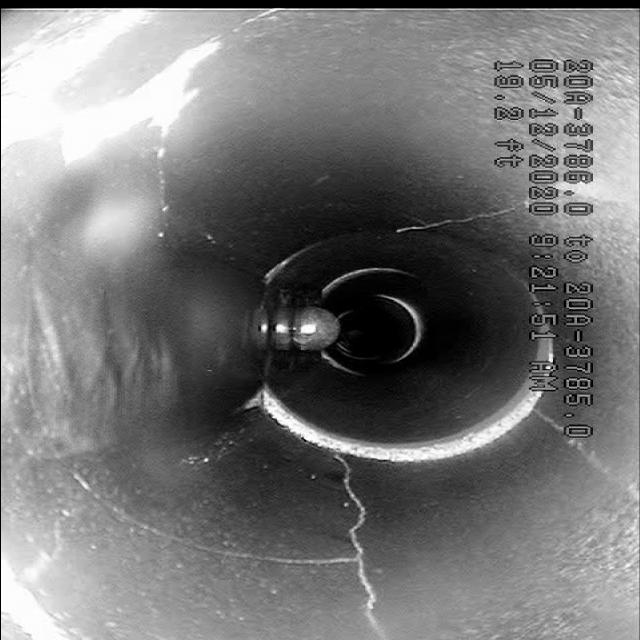Crack: (301, 476, 403, 606)
